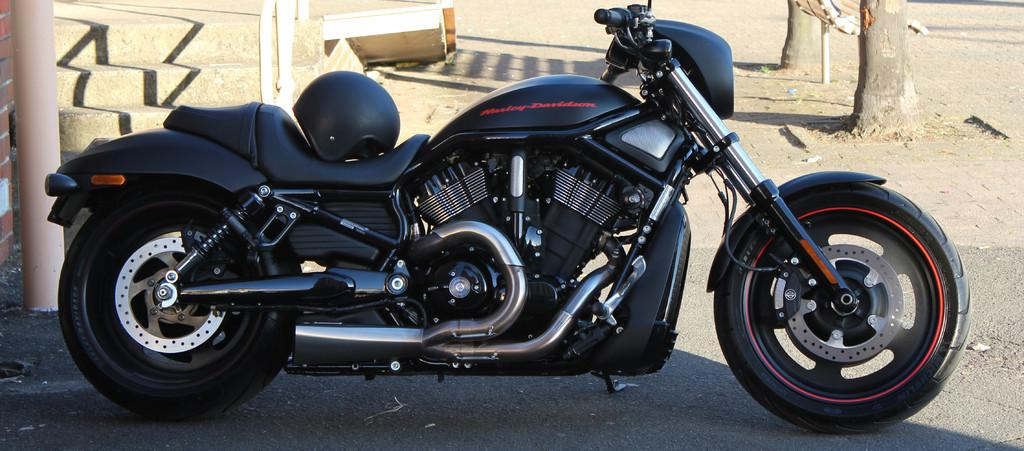helmet: (292, 70, 401, 163)
